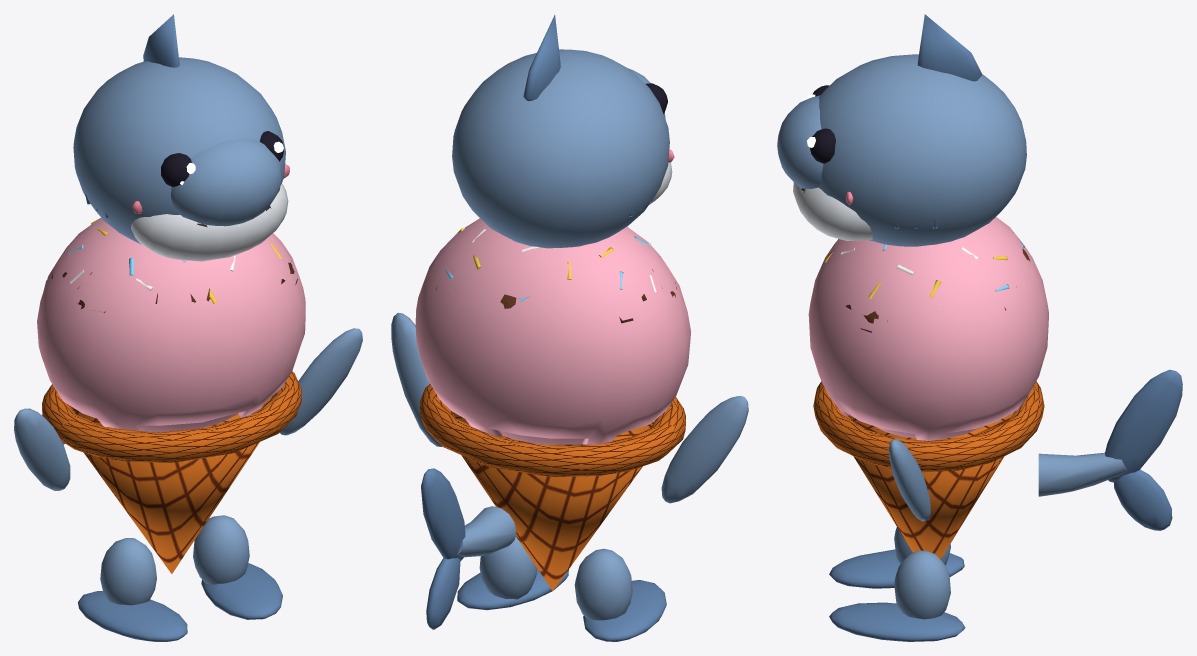
Rendered from pilot_hai2_is_lav.glb.
3 renders of one model, left to right at view 1: azimuth 30°, elevation 25°; view 2: azimuth 150°, elevation 25°; view 3: azimuth 270°, elevation 25°, orthographic. The views are drawn at different scales.
Visible parts, largest first — view 1: kropp, hode, bein_vf, bein_hf, vinge_h, vinge_v; view 2: kropp, hode, hale, bein_vf, vinge_v, bein_hf, vinge_h; view 3: kropp, hode, hale, bein_hf, bein_vf, vinge_h.
Part boxes in pixels (x1=…): kropp: x1=37, y1=218, x2=305, y2=573; hode: x1=73, y1=14, x2=289, y2=261; bein_vf: x1=78, y1=538, x2=187, y2=641; bein_hf: x1=193, y1=515, x2=282, y2=619; vinge_h: x1=280, y1=328, x2=362, y2=435; vinge_v: x1=14, y1=408, x2=70, y2=490; kropp: x1=415, y1=218, x2=690, y2=590; hode: x1=452, y1=14, x2=674, y2=248; hale: x1=421, y1=468, x2=516, y2=629; bein_vf: x1=574, y1=548, x2=666, y2=641; vinge_v: x1=661, y1=396, x2=748, y2=503; bein_hf: x1=457, y1=536, x2=568, y2=610; vinge_h: x1=391, y1=313, x2=442, y2=446; kropp: x1=808, y1=217, x2=1048, y2=559; hode: x1=777, y1=14, x2=1026, y2=246; hale: x1=1038, y1=369, x2=1182, y2=530; bein_hf: x1=829, y1=550, x2=965, y2=641; bein_vf: x1=829, y1=527, x2=964, y2=588; vinge_h: x1=889, y1=439, x2=930, y2=521.
Size of the model in its own units: 1.27 by 2.06 by 1.28.
Materials: 15 (1 with a texture image).
